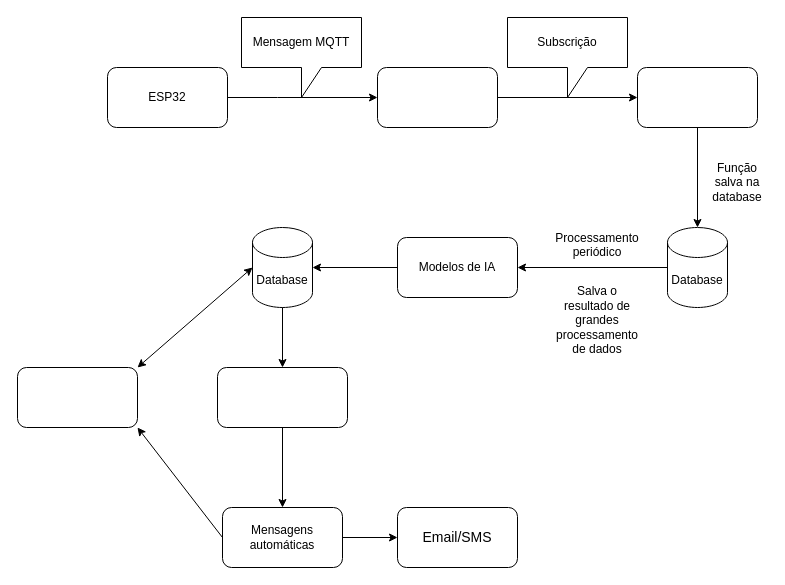
Some shapes in this 785 by 585 pixel diagram are drawn without their labels. The box of each missing label's shape, as (x1, y1, x2, y2) in pixels:
Dashboard: (16, 366, 138, 428)
Processamento das mensagens (Cloud functions ou Lambda): (636, 66, 758, 128)
Servidor MQTT: (376, 66, 498, 128)
Tomada de decisão ( Cloud Functions ou Lambda): (216, 366, 348, 428)
